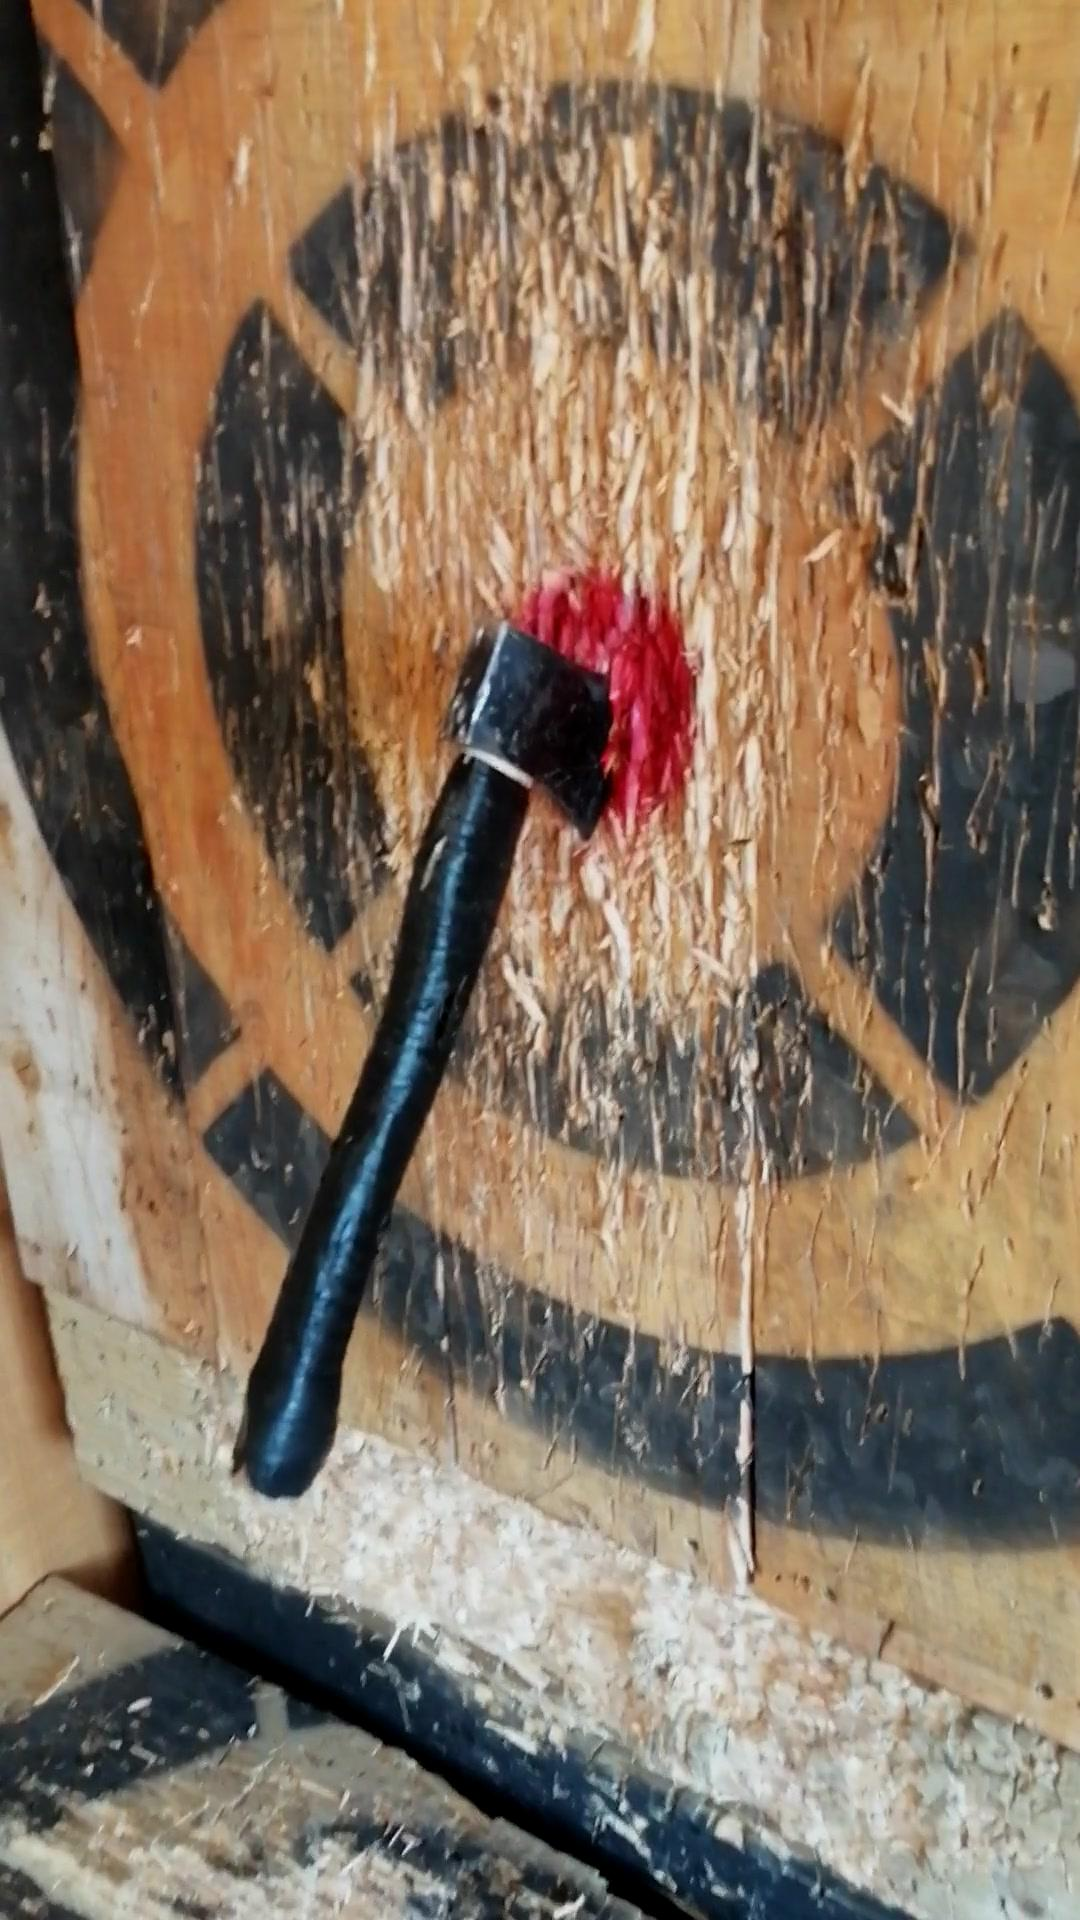Hand Axe: (440, 622, 630, 848)
